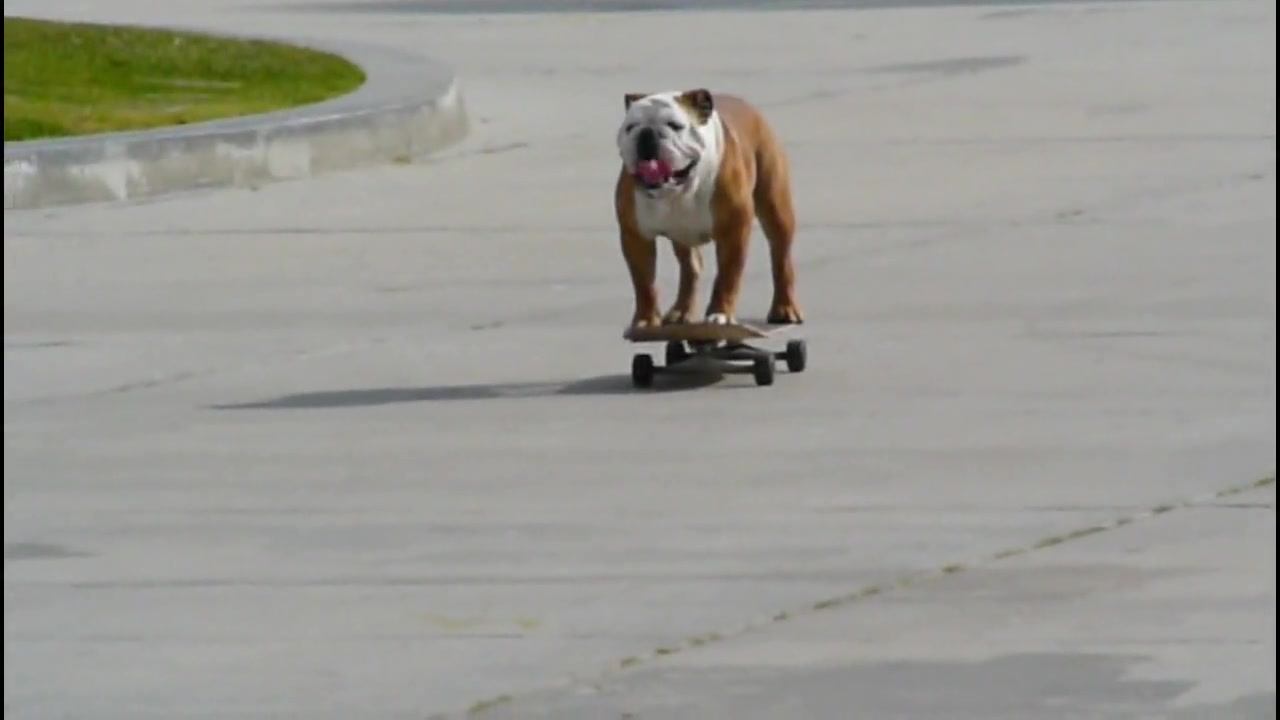dog: (609, 83, 800, 331)
